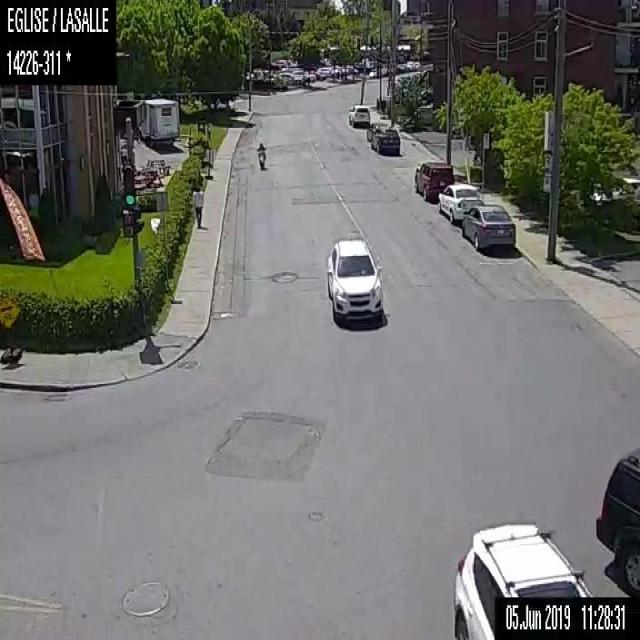pedestrian: (192, 185, 202, 227)
vehicle: (450, 520, 593, 639), (594, 445, 639, 595), (325, 236, 383, 327), (136, 94, 180, 150), (462, 204, 514, 250), (412, 157, 454, 203), (437, 182, 483, 223), (374, 127, 400, 156), (348, 102, 369, 129), (258, 143, 266, 169)
